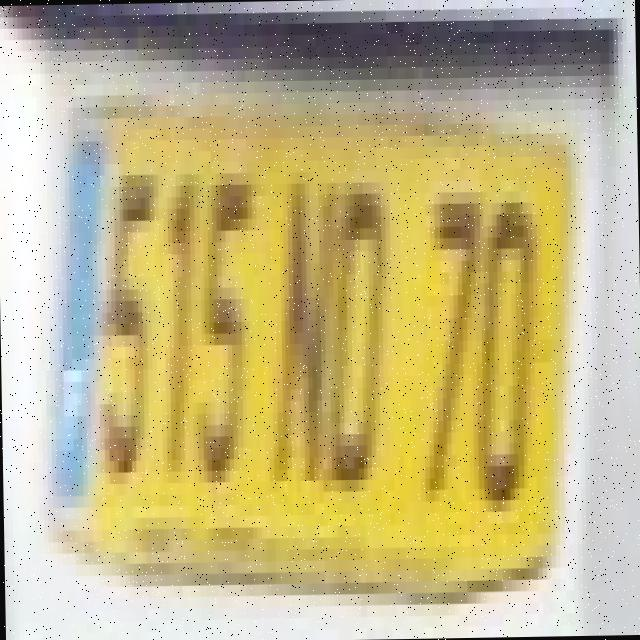Autre: (49, 101, 576, 581)
